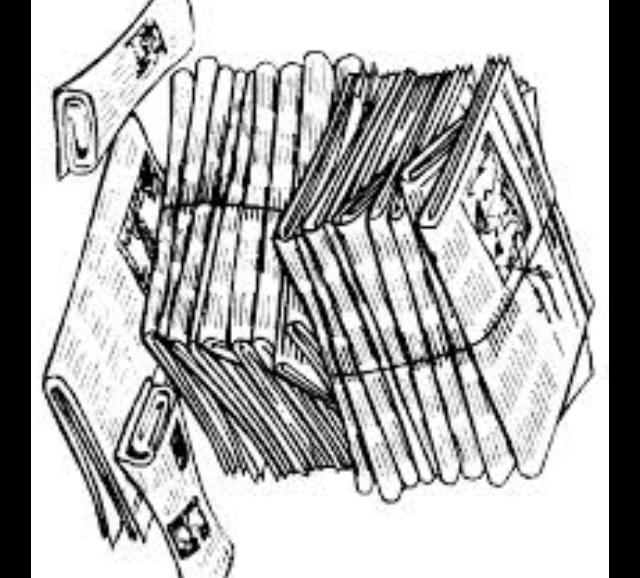cardboard paper: (47, 0, 598, 578), (150, 50, 598, 495), (50, 111, 236, 578)
